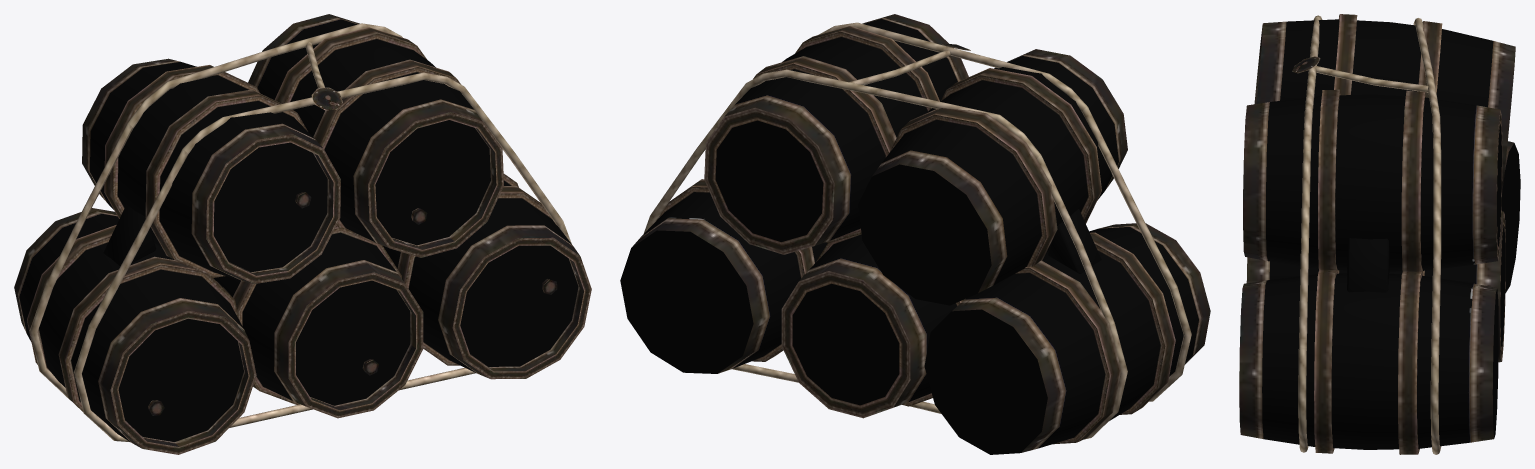
The model's file is o_mdl_env_propBarrelGroupA-transformed.glb.
3 views of the same model, side by side, from view 1: azimuth 30°, elevation 25°; view 2: azimuth 150°, elevation 25°; view 3: azimuth 270°, elevation 25° (orthographic). The views are drawn at different scales.
Parts seen in each view (by area): view 1: default; view 2: default; view 3: default.
Boxes of the visible parts, x1=… form: default: x1=14, y1=14, x2=591, y2=454; default: x1=620, y1=14, x2=1210, y2=454; default: x1=1239, y1=14, x2=1520, y2=454.
Bounding box in the file's own units: 2.18 × 1.34 × 1.1.
1 material, 1 textured.
